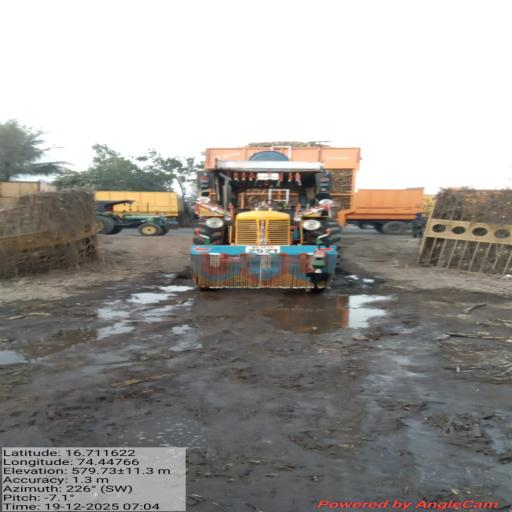number_plate: (246, 246, 280, 254)
